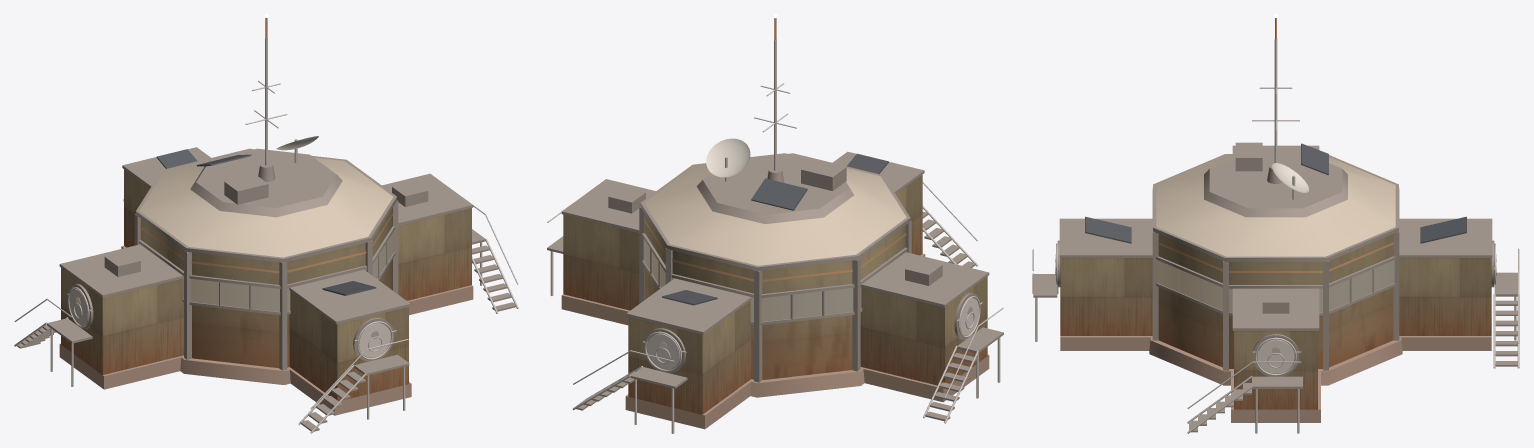
The model's file is Z01_command_hub.glb.
3 renders of one model, left to right at view 1: azimuth 30°, elevation 25°; view 2: azimuth 150°, elevation 25°; view 3: azimuth 270°, elevation 25°, orthographic. The views are drawn at different scales.
Parts seen in each view (by area): view 1: window_rail, wing_body, roof, hub_body, foundation, antenna_mast, window_band; view 2: window_rail, wing_body, roof, hub_body, foundation, antenna_mast, window_band, roof_dish; view 3: window_rail, wing_body, roof, hub_body, foundation, window_band, antenna_mast, roof_dish.
Part boxes in pixels (x1,y1,x2,y2): window_rail: [17, 147, 516, 431]; wing_body: [61, 169, 471, 401]; roof: [69, 18, 393, 357]; hub_body: [140, 208, 392, 367]; foundation: [59, 246, 473, 415]; antenna_mast: [14, 39, 518, 433]; window_band: [76, 231, 393, 338]; window_rail: [547, 151, 1003, 421]; wing_body: [563, 175, 987, 414]; roof: [644, 18, 979, 369]; hub_body: [645, 214, 905, 379]; foundation: [561, 253, 989, 429]; antenna_mast: [547, 39, 1003, 433]; window_band: [643, 238, 972, 349]; roof_dish: [706, 138, 750, 177]; window_rail: [1033, 142, 1517, 432]; wing_body: [1060, 258, 1491, 409]; roof: [1156, 18, 1395, 373]; hub_body: [1158, 234, 1393, 368]; foundation: [1060, 336, 1491, 422]; window_band: [1055, 254, 1496, 354]; antenna_mast: [1032, 39, 1519, 433]; roof_dish: [1272, 163, 1308, 192].
Size of the model in its own units: 16.27 by 11.71 by 16.27.
Materials: 9 (2 with a texture image).
